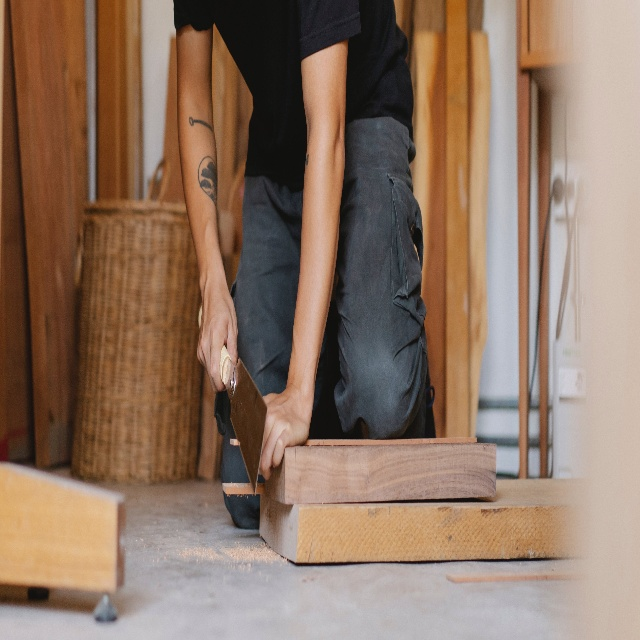Sin_guantes: (257, 388, 312, 480), (196, 280, 239, 394)
